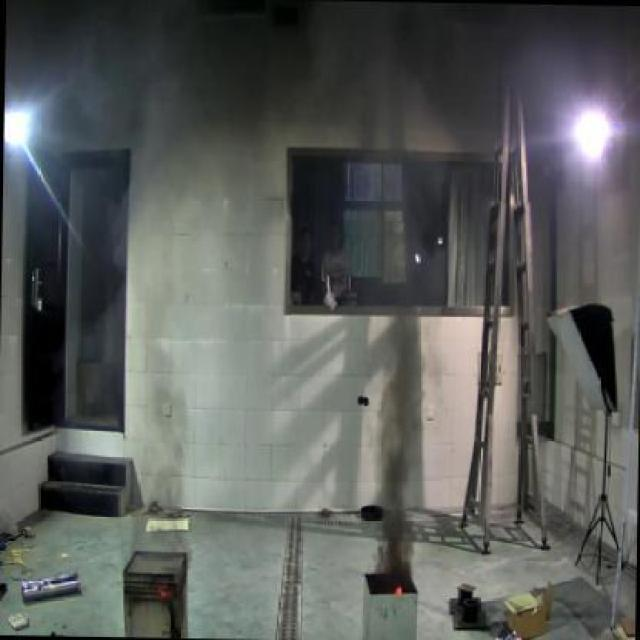fire: (370, 320, 428, 571)
